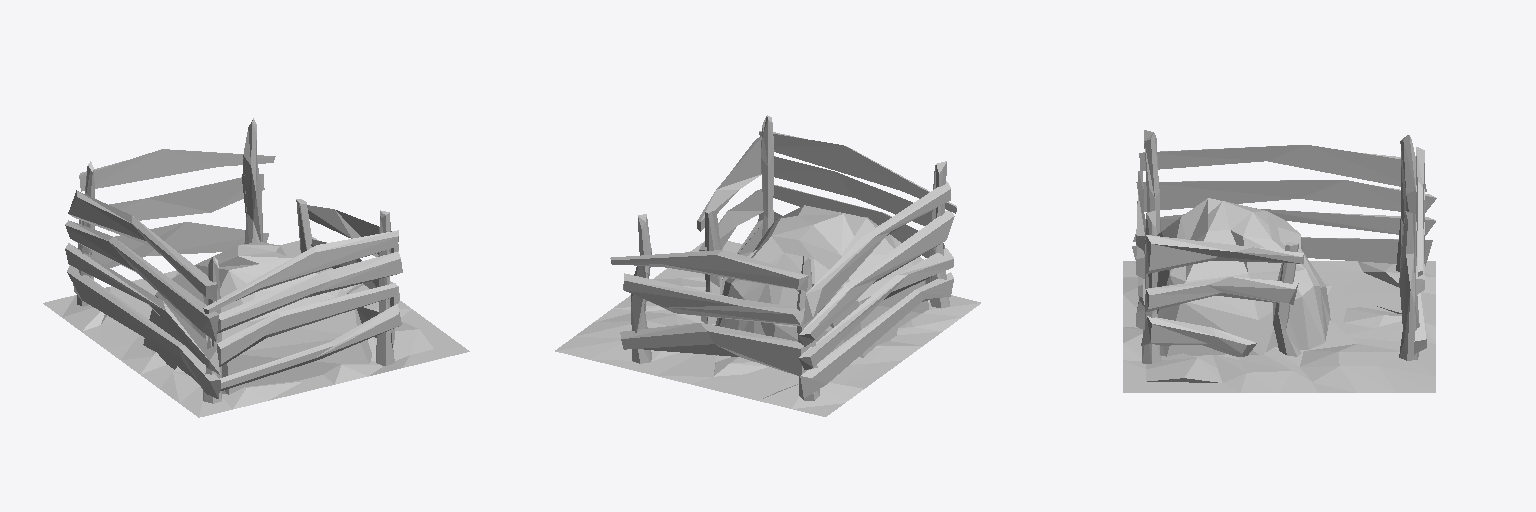
File: Hayloft.obj
The picture shows the model from 3 angles: view 1: azimuth 30°, elevation 25°; view 2: azimuth 150°, elevation 25°; view 3: azimuth 270°, elevation 25°; orthographic projection.
Parts seen in each view (by area): view 1: Cylinder.005; view 2: Cylinder.005; view 3: Cylinder.005.
Boxes of the visible parts, <box> form: Cylinder.005: <box>43,118,469,417</box>; Cylinder.005: <box>555,115,980,416</box>; Cylinder.005: <box>1123,130,1436,392</box>.
Bounding box in the file's own units: 4 × 2.14 × 4.01.